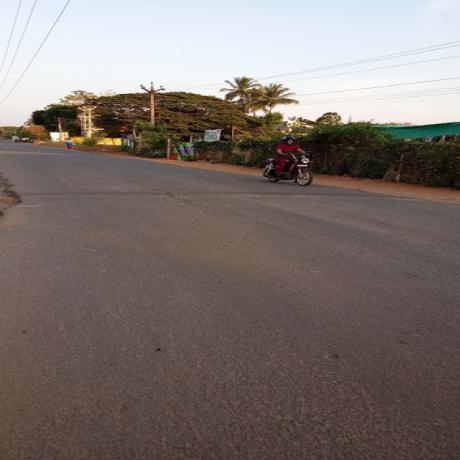Speed Bump: (13, 189, 409, 201)
